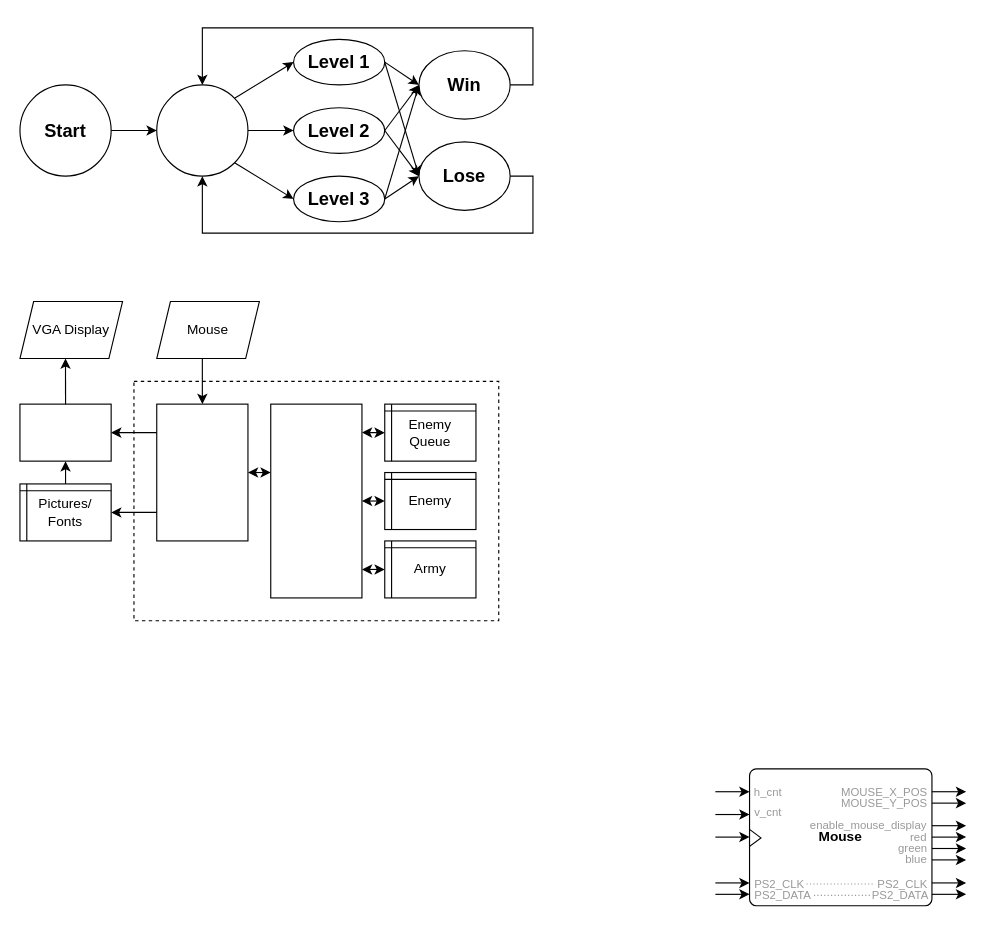
This 995x933 diagram has some shape labels left out. Each missing label, with the centre of its shape:
"Game Engine" goes at point 316,500.
"Menu" goes at point 202,130.
"Pixel Gen" goes at point 65,432.
"Top (State)" goes at point 202,472.
